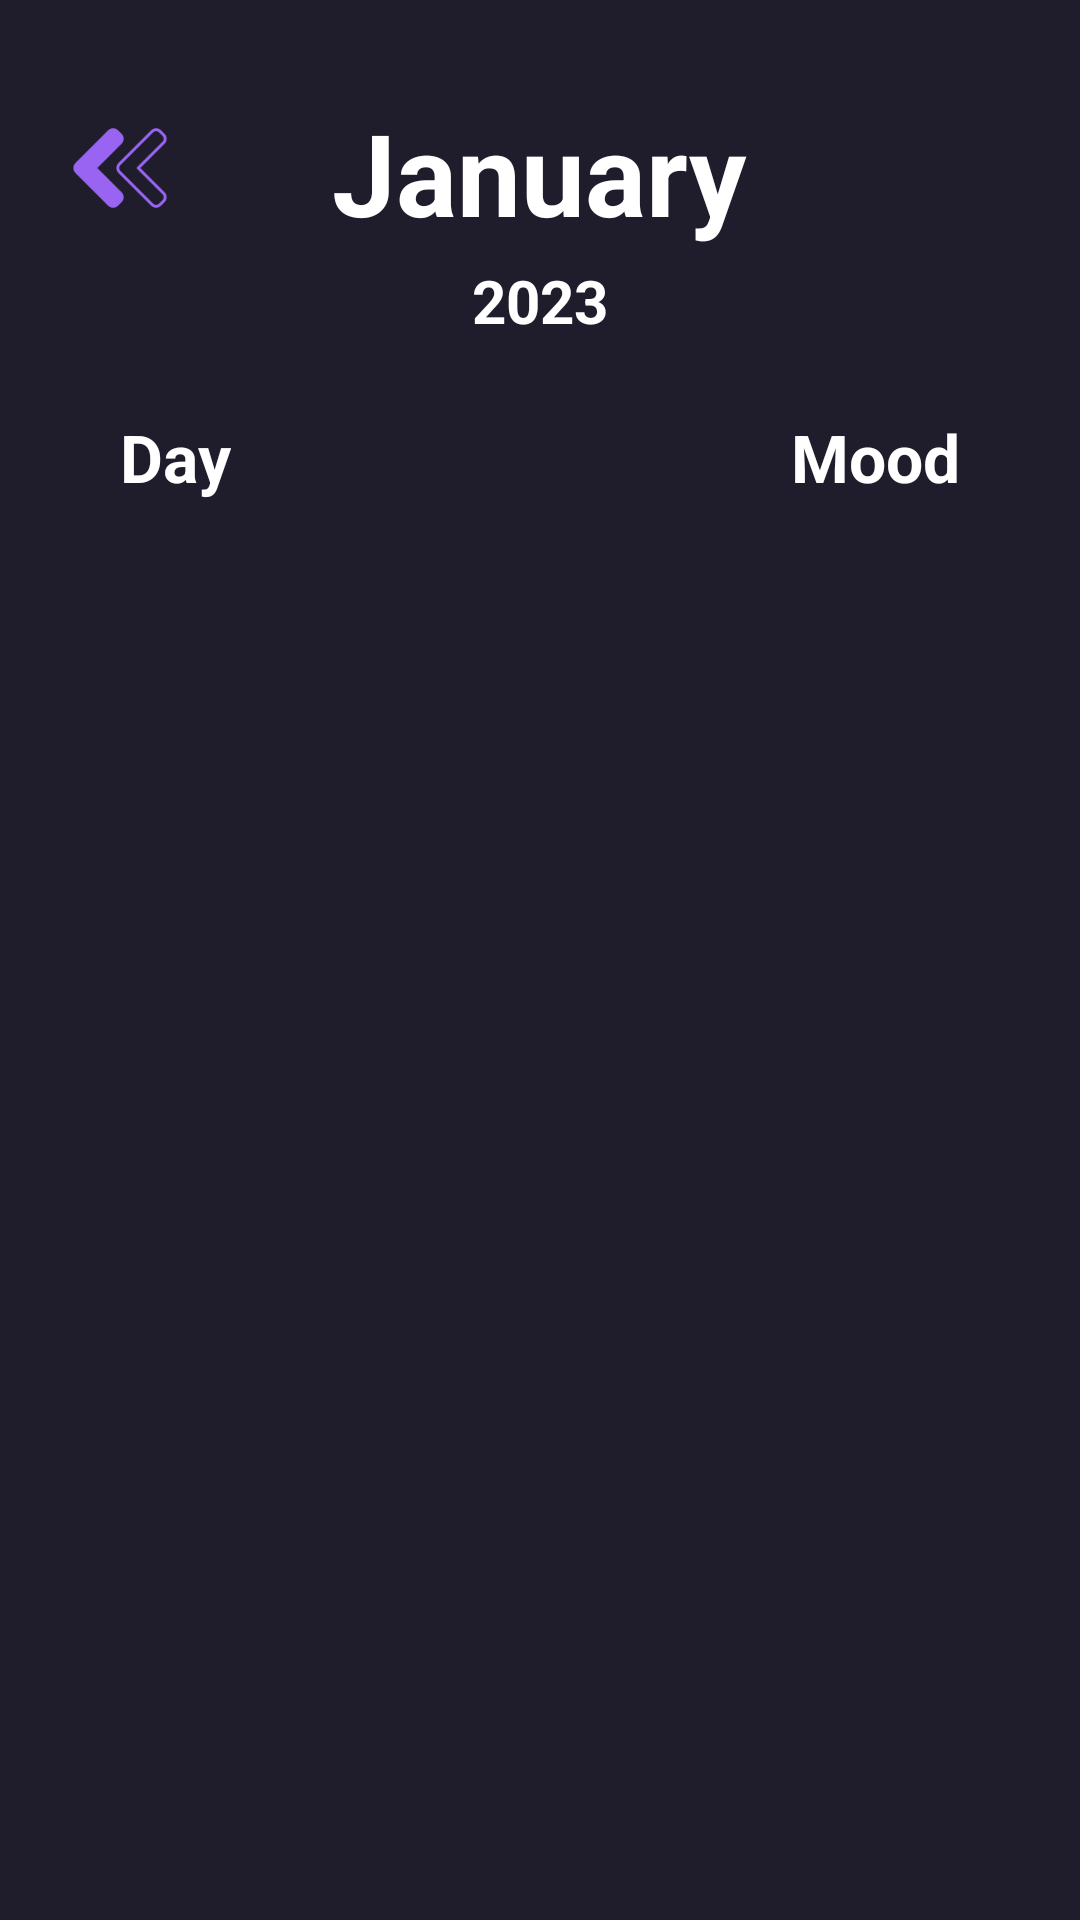

Icon click points for this 1080×1920 phone screenshot, format (x,y):
back: (120,168)
